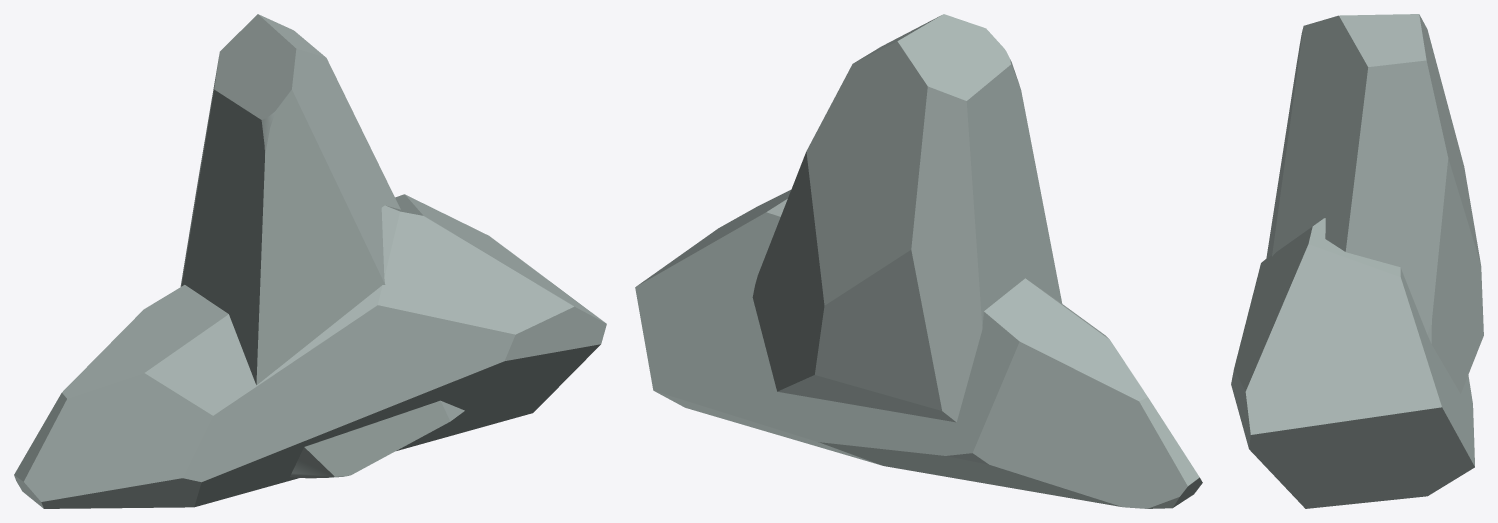
The model's file is Stones.fbx.
3 renders of one model, left to right at view 1: azimuth 30°, elevation 25°; view 2: azimuth 150°, elevation 25°; view 3: azimuth 270°, elevation 25°, orthographic. The views are drawn at different scales.
Parts seen in each view (by area): view 1: Stone_01, Stone_02; view 2: Stone_02, Stone_01; view 3: Stone_01, Stone_02.
Boxes of the visible parts, x1,y1,x2,y2 form: Stone_01: (14,194,606,508); Stone_02: (180,14,464,478); Stone_02: (752,14,1062,422); Stone_01: (635,190,1202,508); Stone_01: (1231,218,1474,508); Stone_02: (1266,14,1483,393).
Bounding box in the file's own units: 35.65 × 26.55 × 15.43.
